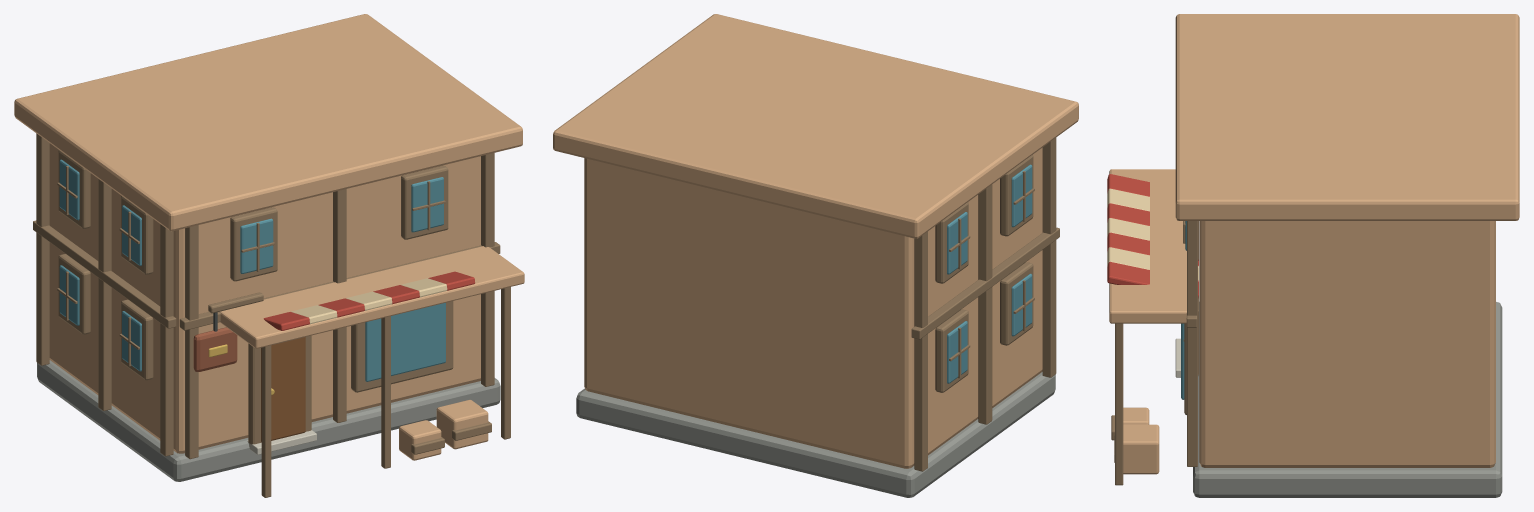
Rendered from arid-shop-1.glb.
3 views of the same model, side by side, from view 1: azimuth 30°, elevation 25°; view 2: azimuth 150°, elevation 25°; view 3: azimuth 270°, elevation 25° (orthographic). The views are drawn at different scales.
Parts seen in each view (by area): view 1: Adobe cream, Adobe plaster, Palm beams, Adobe wood, Blue glass, Foundation stone, Door oak, Market red cloth, Market cream cloth, Painted sign, Cut limestone; view 2: Adobe plaster, Adobe cream, Palm beams, Foundation stone, Blue glass; view 3: Adobe plaster, Adobe cream, Foundation stone, Adobe wood, Palm beams, Market red cloth, Market cream cloth.
Part boxes in pixels (box(x1,y1,x2,y2)): Adobe cream: box(14, 14, 522, 231); Adobe plaster: box(49, 143, 480, 453); Palm beams: box(33, 133, 510, 497); Adobe wood: box(219, 246, 524, 460); Blue glass: box(59, 159, 445, 381); Foundation stone: box(37, 360, 500, 481); Door oak: box(261, 337, 305, 442); Market red cloth: box(263, 271, 475, 330); Market cream cloth: box(291, 278, 447, 324); Painted sign: box(193, 327, 237, 371); Cut limestone: box(247, 430, 316, 454); Adobe plaster: box(584, 147, 1042, 468); Adobe cream: box(553, 14, 1078, 238); Palm beams: box(911, 138, 1059, 471); Foundation stone: box(576, 372, 1055, 497); Blue glass: box(947, 164, 1032, 383); Adobe plaster: box(1199, 221, 1495, 467); Adobe cream: box(1175, 14, 1519, 220); Foundation stone: box(1193, 302, 1502, 497); Adobe wood: box(1109, 169, 1186, 474); Palm beams: box(1111, 221, 1198, 485); Market red cloth: box(1107, 174, 1198, 298); Market cream cloth: box(1107, 188, 1198, 280).
Bounding box in the file's own units: 4.14 × 3.14 × 3.82.
